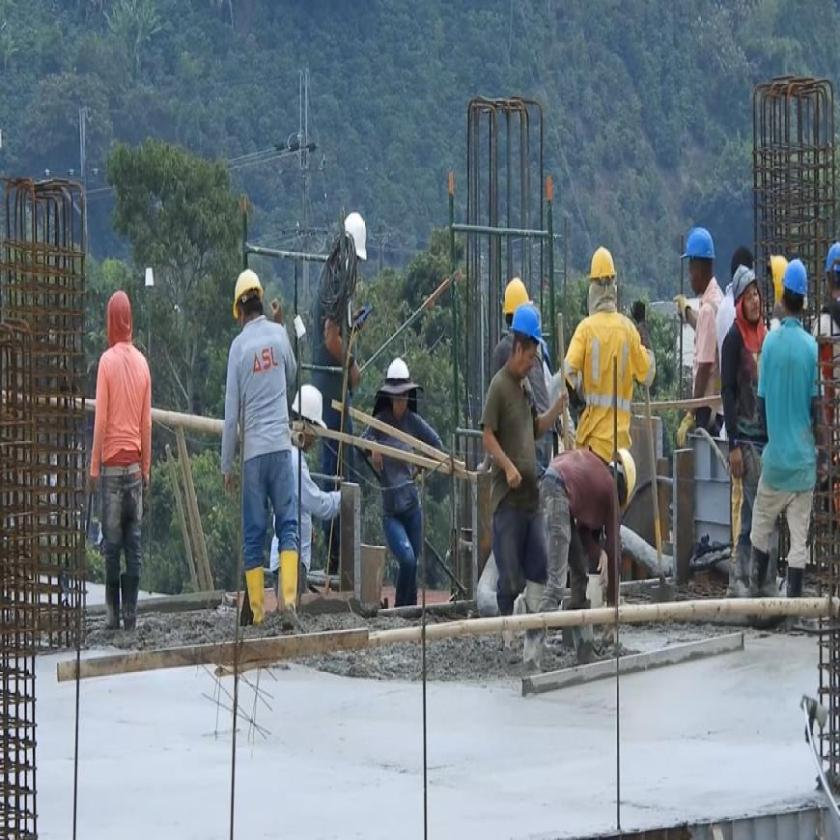Con_casco: (575, 240, 631, 327), (499, 298, 549, 391), (730, 252, 769, 350), (681, 217, 728, 293), (377, 352, 422, 420), (293, 386, 328, 448), (229, 267, 265, 327), (780, 260, 812, 324)
